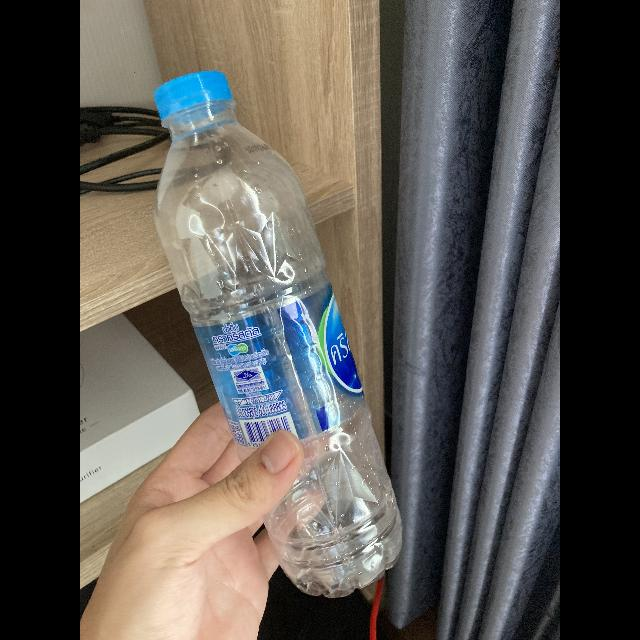plastic_bottle: (145, 65, 409, 603)
